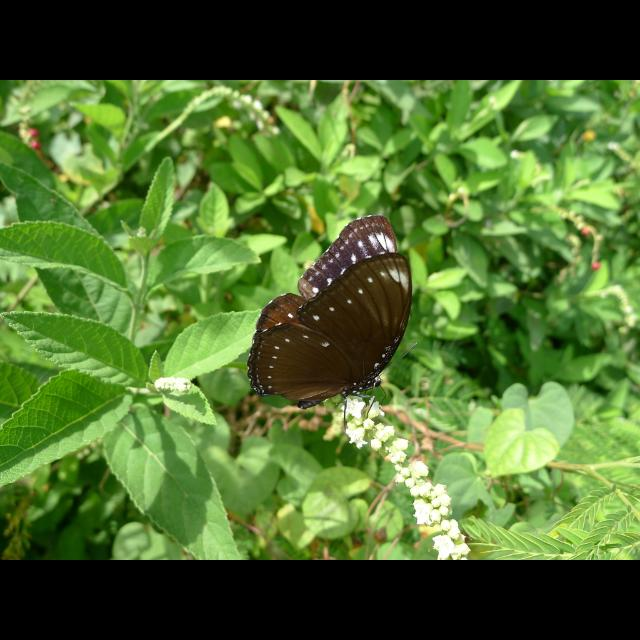Flower: (342, 392, 470, 560), (413, 505, 433, 527)
